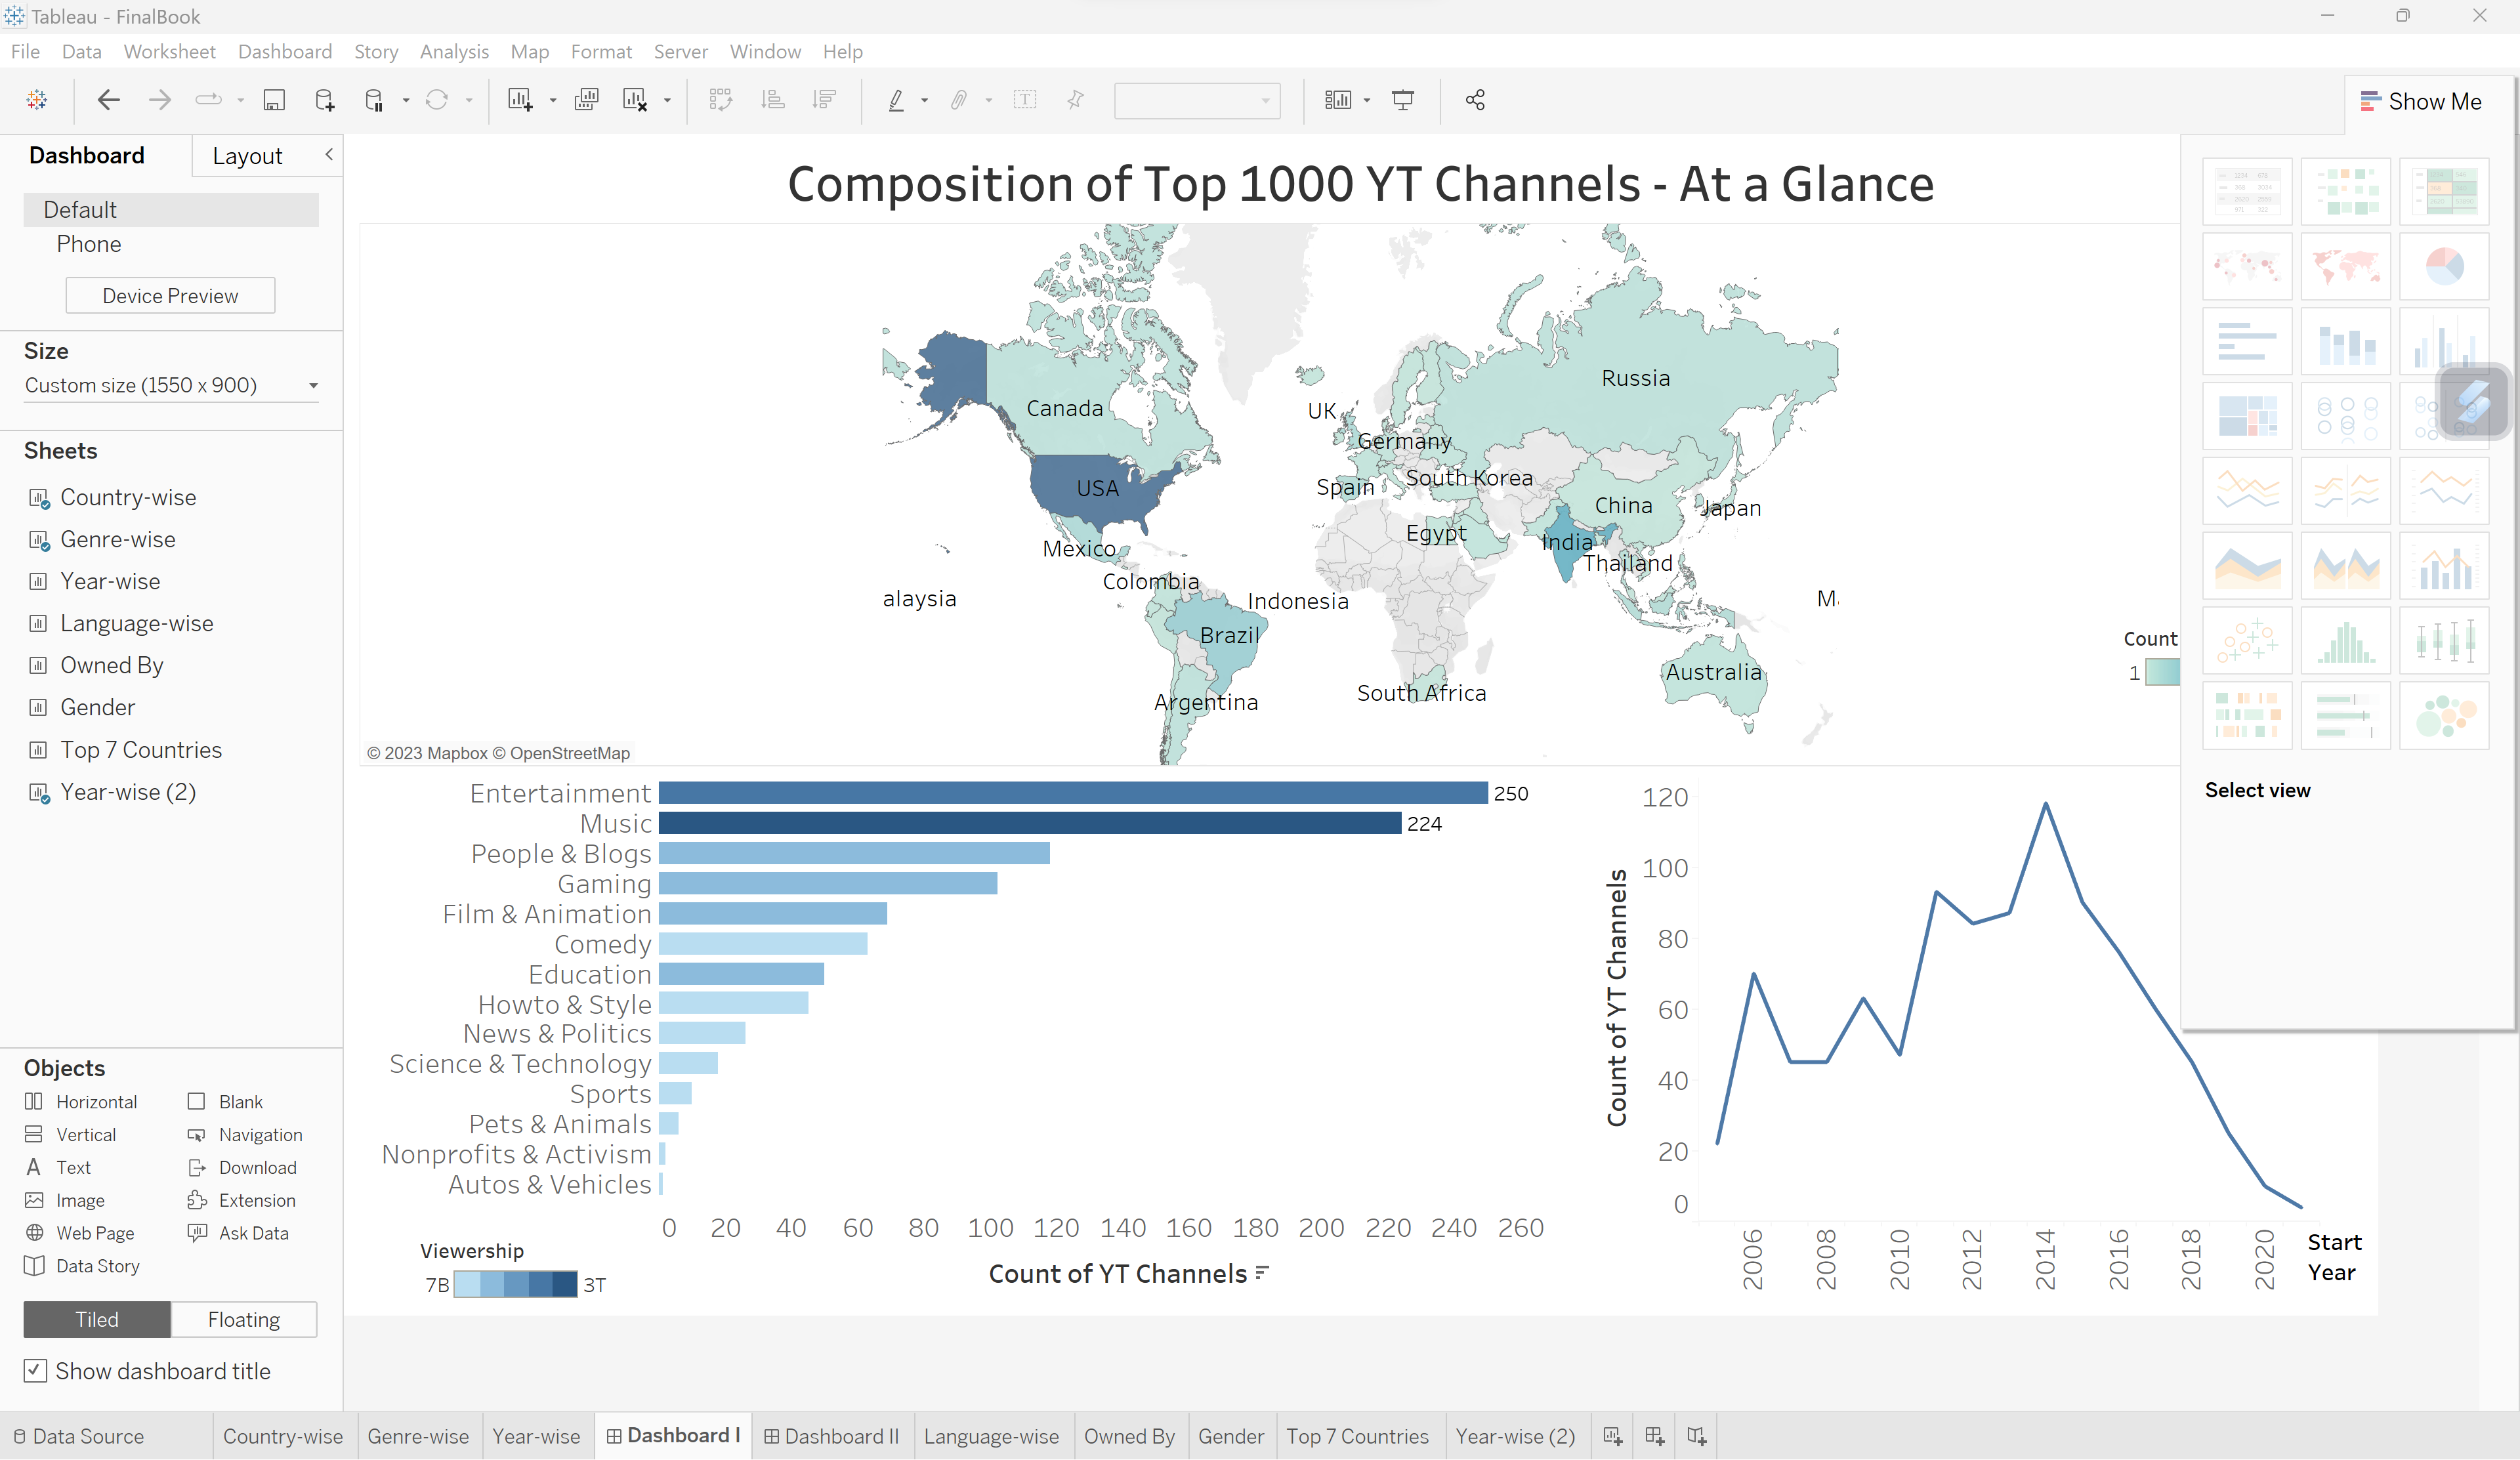

This screenshot's page, from the dashboard's own definition file:
{"tool":"tableau","page":{"name":"Dashboard I","canvas":[1550,900],"ordinal":0},"visuals":[{"type":"title","box":[8,8,1534,56]},{"type":"worksheet","title":"Country-wise","mark":"Automatic","box":[8,64,1534,422]},{"type":"legend","title":"Country-wise","param":"[federated.04vjl9208db6as12y76fm1v9xx0x].[cnt:Rank:qk]","box":[1356,374,172,88]},{"type":"worksheet","title":"Genre-wise","mark":"Automatic","rows":["Genre"],"cols":["Rank"],"box":[8,486,936.1,406]},{"type":"worksheet","title":"Year-wise (2)","mark":"Line","rows":["Rank"],"cols":["Start Year"],"box":[944.1,486,565.9,406]}]}

Visuals, with their boxes on the page's 1550x900 design canvas (x1, y1, x2, y2). These are canvas units, not pixel positions in the 2520x1460 screenshot, which may show the page scaled, cropped or inside an application window:
title: locate(8, 8, 1542, 64)
"Country-wise" worksheet: locate(8, 64, 1542, 486)
"Country-wise" legend: locate(1356, 374, 1528, 462)
"Genre-wise" worksheet: locate(8, 486, 944, 892)
"Year-wise (2)" worksheet (Line marks): locate(944, 486, 1510, 892)
